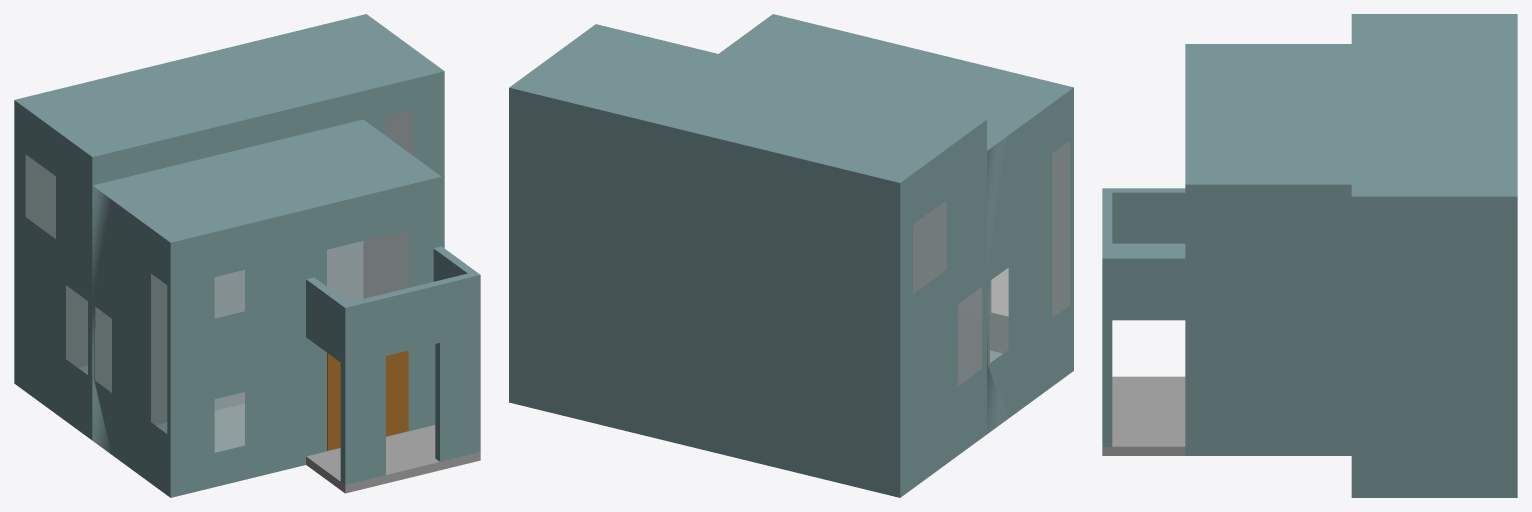
The model's file is newhouse1.fbx.
3 views of the same model, side by side, from view 1: azimuth 30°, elevation 25°; view 2: azimuth 150°, elevation 25°; view 3: azimuth 270°, elevation 25° (orthographic). The views are drawn at different scales.
Visible parts, largest first — view 1: pCube13, pCube8; view 2: pCube13; view 3: pCube13.
Part boxes in pixels (bbox=[...]): pCube13: bbox=[14, 14, 480, 497]; pCube8: bbox=[327, 350, 408, 450]; pCube13: bbox=[509, 14, 1073, 497]; pCube13: bbox=[1102, 14, 1517, 497].
Bounding box in the file's own units: 780 × 600 × 750.
